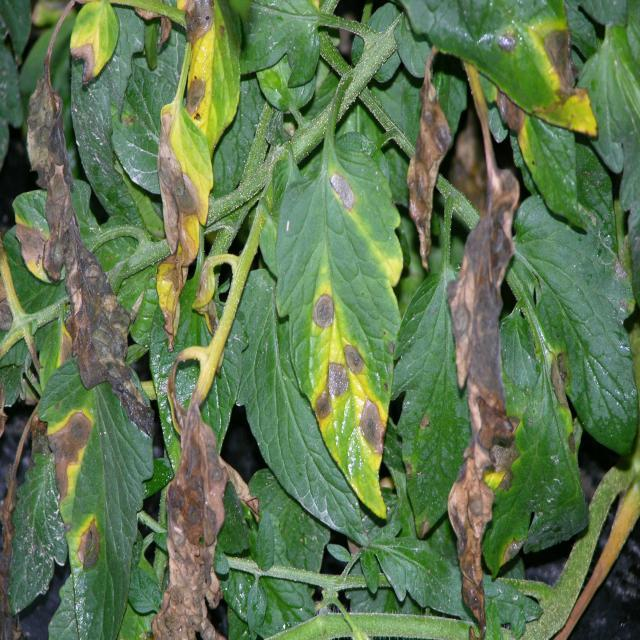Tomato Early blight leaf: (478, 191, 640, 576), (272, 130, 403, 522), (44, 350, 147, 640), (433, 0, 594, 132), (158, 100, 212, 334), (175, 3, 242, 145)
